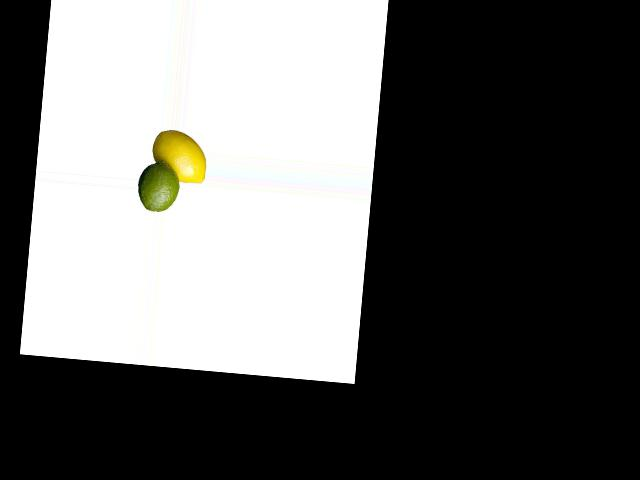lemon: (133, 151, 190, 215)
